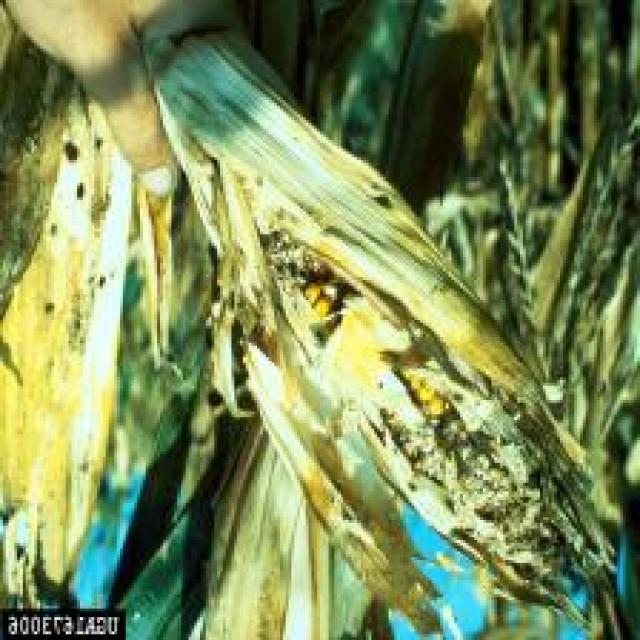Plaga: (407, 446, 535, 526), (263, 250, 323, 301)
